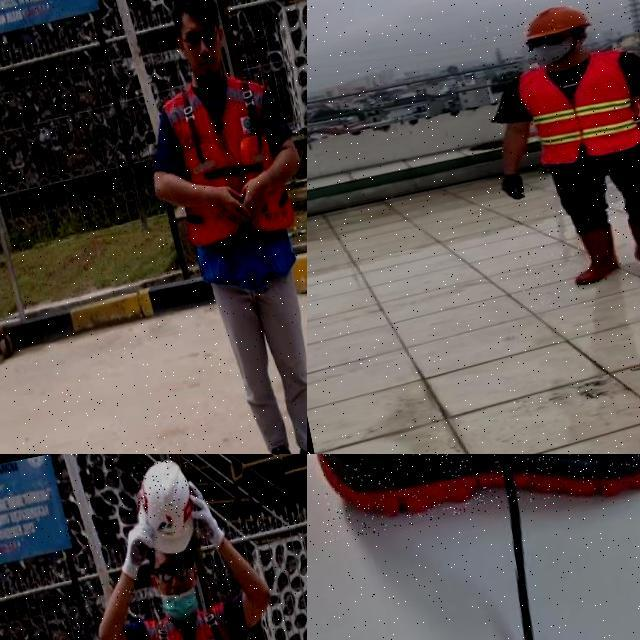boots: (307, 454, 640, 541), (568, 225, 622, 287), (624, 215, 640, 277)
helmet: (130, 456, 203, 557), (518, 0, 597, 43)
vest: (161, 67, 305, 290), (517, 48, 640, 167)
